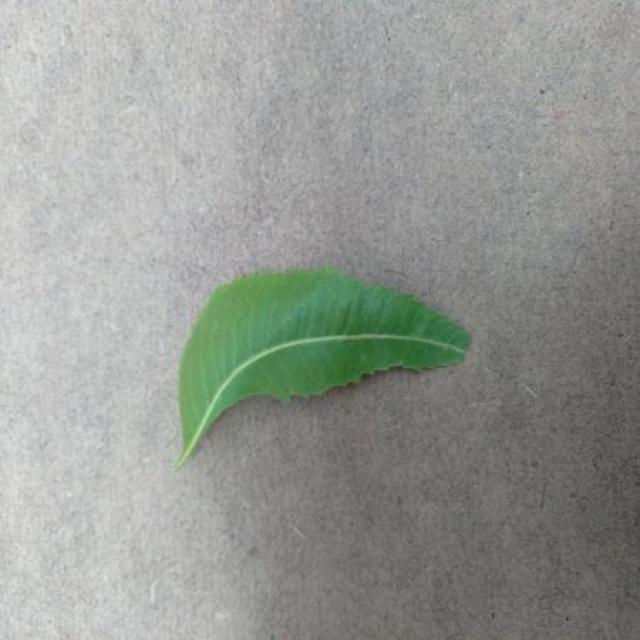neem: (175, 266, 472, 468)
